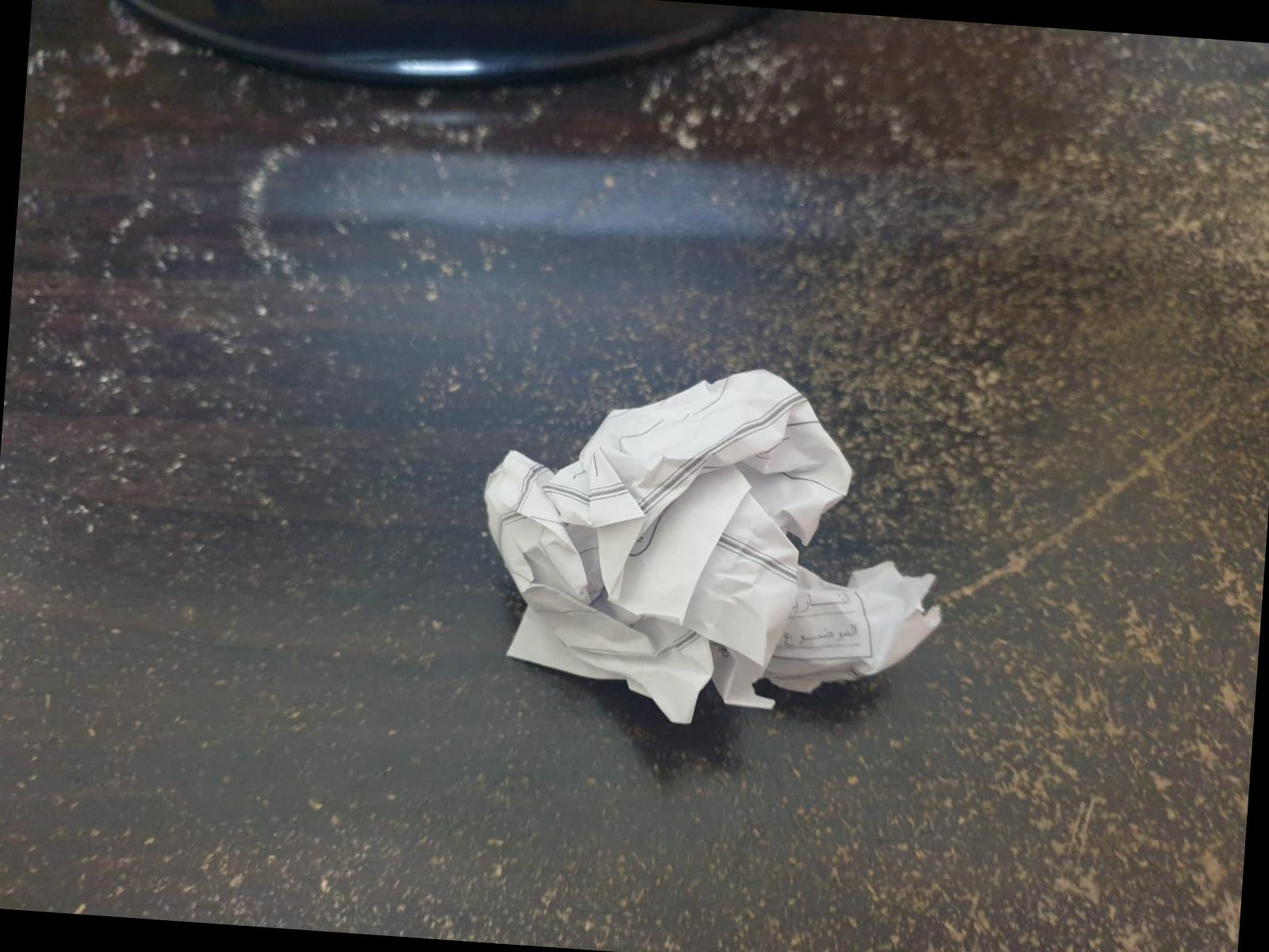Kertas: (456, 361, 953, 739)
